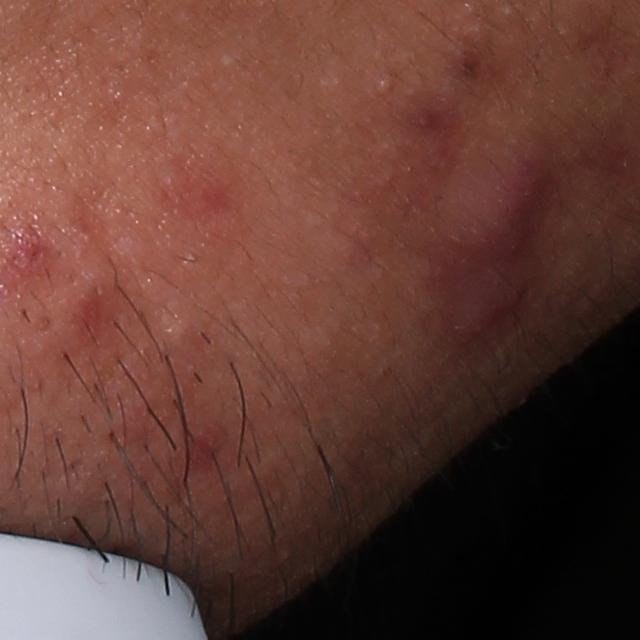comedo: (368, 74, 395, 101)
hypertrophic_scar: (152, 306, 204, 351)
nodule: (425, 134, 557, 331)
